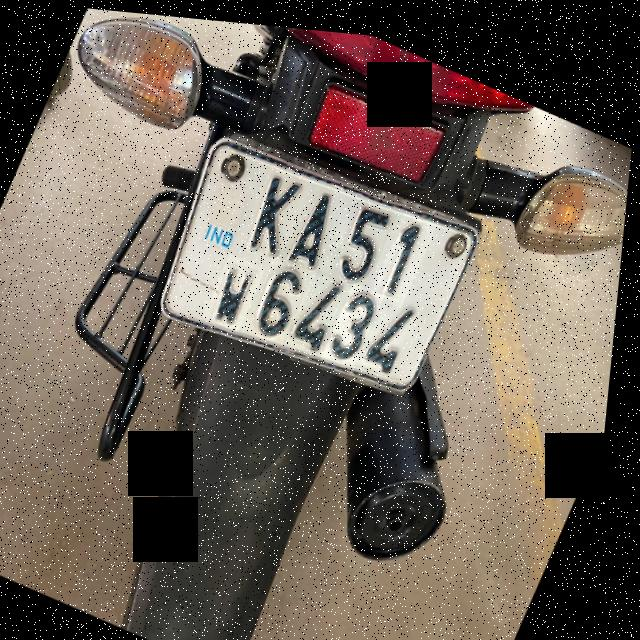1: (374, 200, 442, 302)
3: (327, 273, 390, 367)
4: (363, 282, 435, 381), (290, 261, 359, 357)
5: (331, 184, 405, 284)
6: (250, 251, 319, 345)
A: (287, 174, 352, 272)
K: (239, 156, 318, 262)
W: (207, 247, 271, 329)
